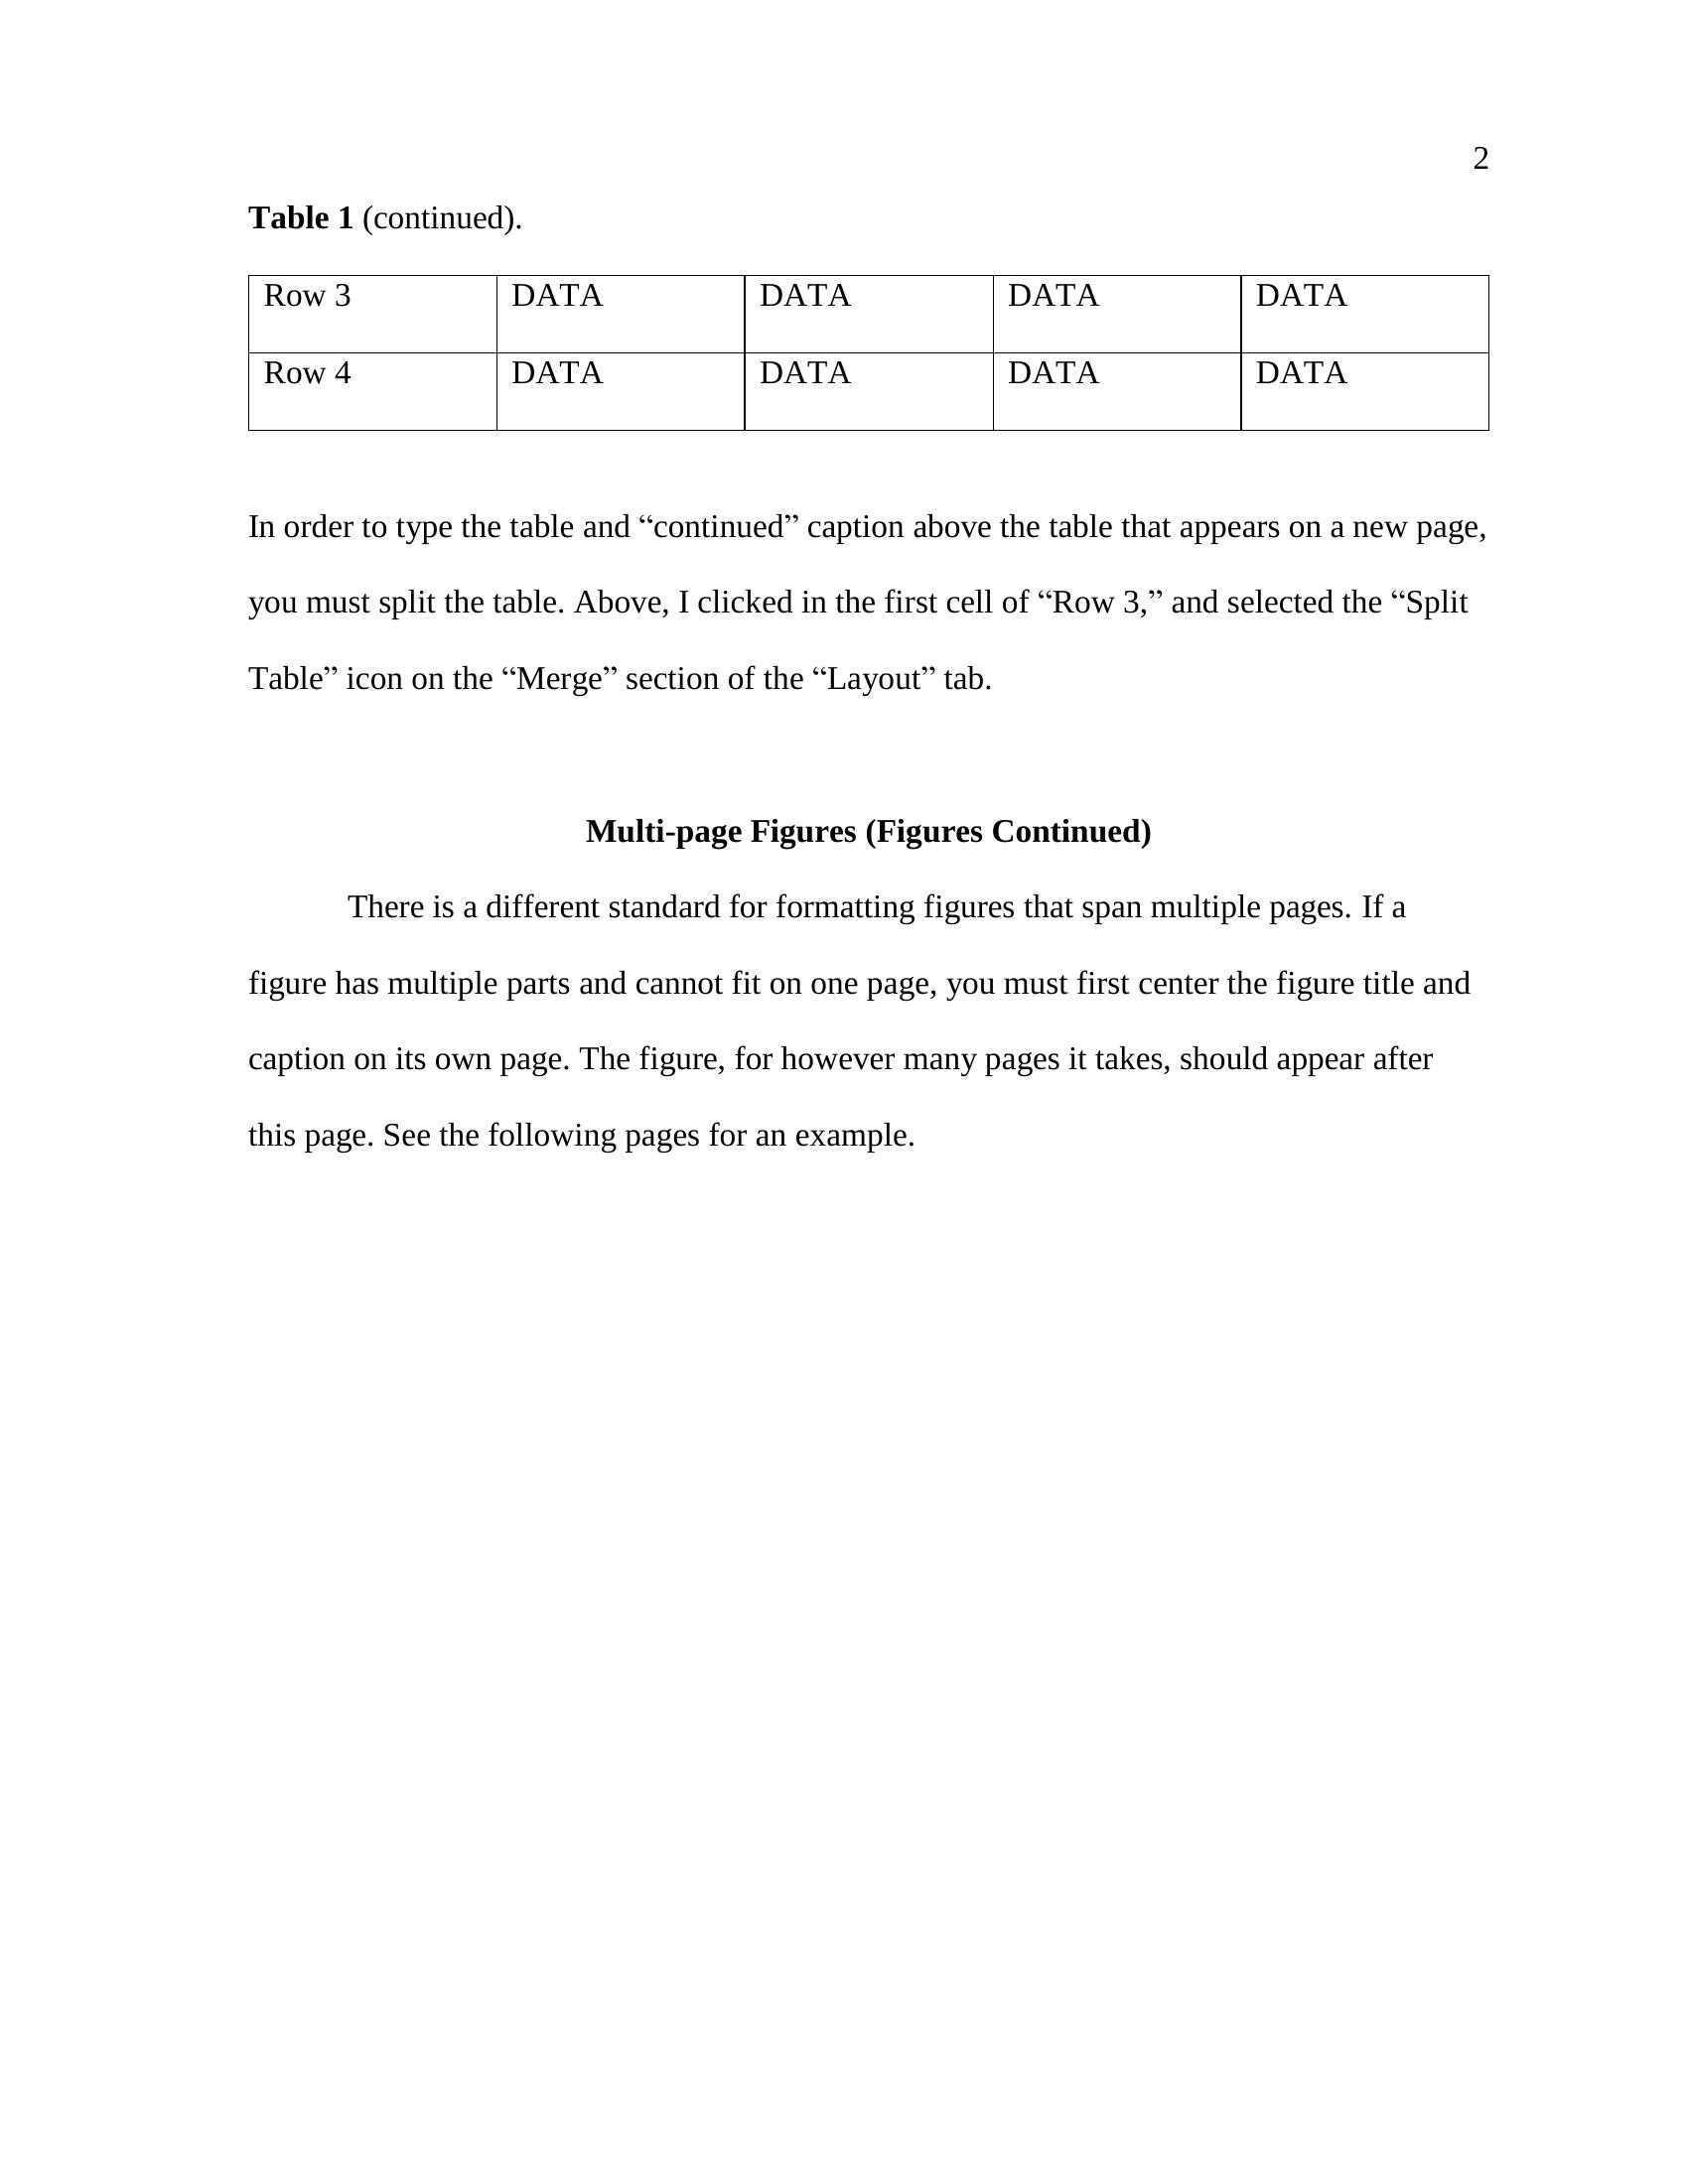table: (246, 268, 1502, 450)
